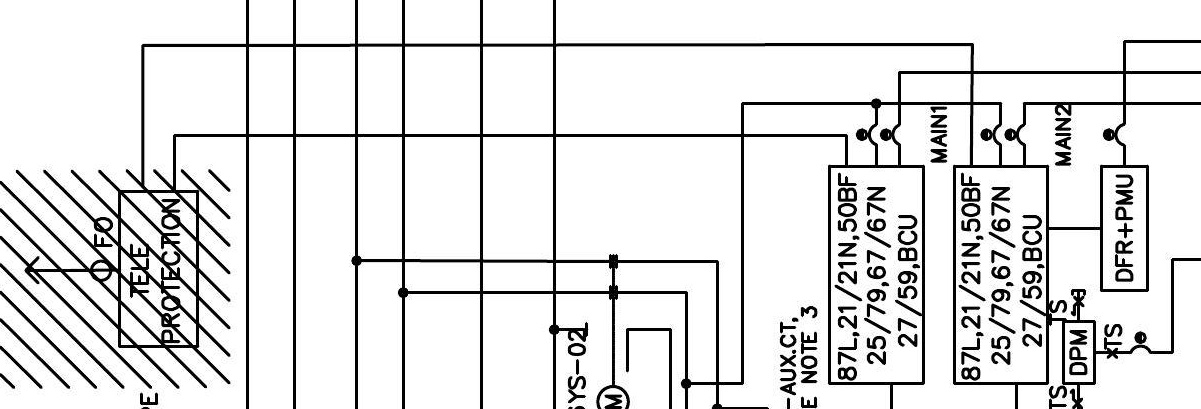DPM: (1061, 318, 1097, 386)
tele_protection: (115, 187, 202, 351)
